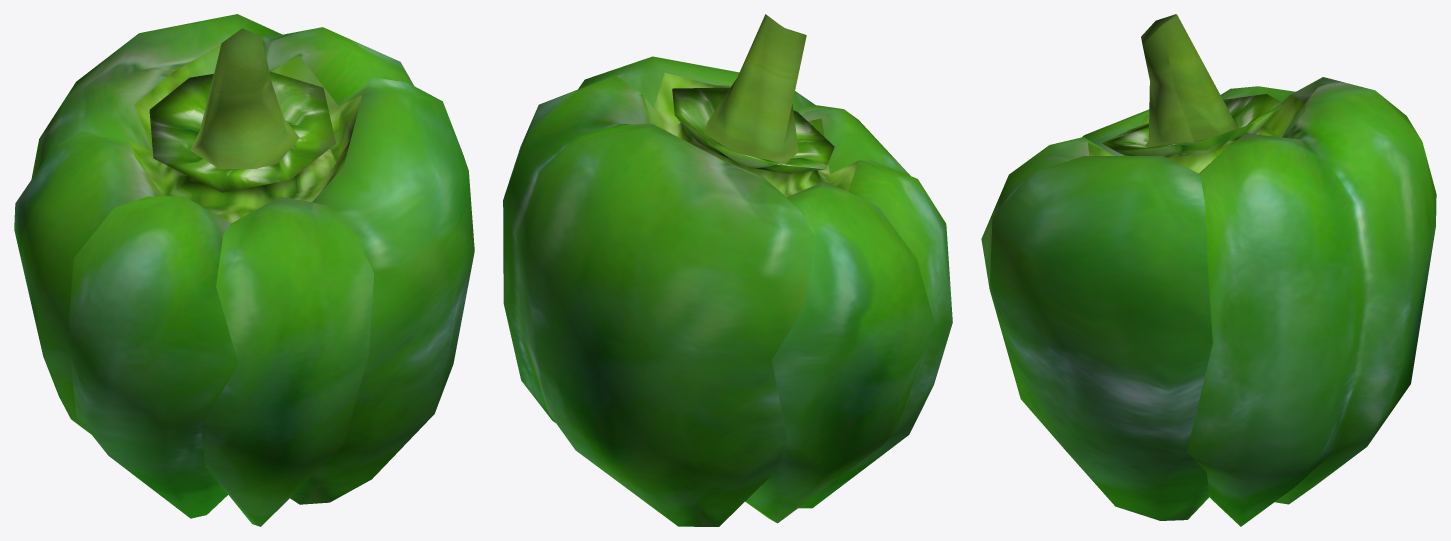
Rendered from GreenPepper.fbx.
The picture shows the model from 3 angles, left to right: view 1: azimuth 30°, elevation 25°; view 2: azimuth 150°, elevation 25°; view 3: azimuth 270°, elevation 25°; orthographic projection.
Parts seen in each view (by area): view 1: 10165_BellPepper_v01_L3; view 2: 10165_BellPepper_v01_L3; view 3: 10165_BellPepper_v01_L3.
Boxes of the visible parts, x1=… form: 10165_BellPepper_v01_L3: x1=14, y1=14, x2=474, y2=526; 10165_BellPepper_v01_L3: x1=503, y1=14, x2=952, y2=526; 10165_BellPepper_v01_L3: x1=981, y1=14, x2=1436, y2=526.
Size of the model in its own units: 1.14 by 1.34 by 1.16.
1 material, 1 textured.
